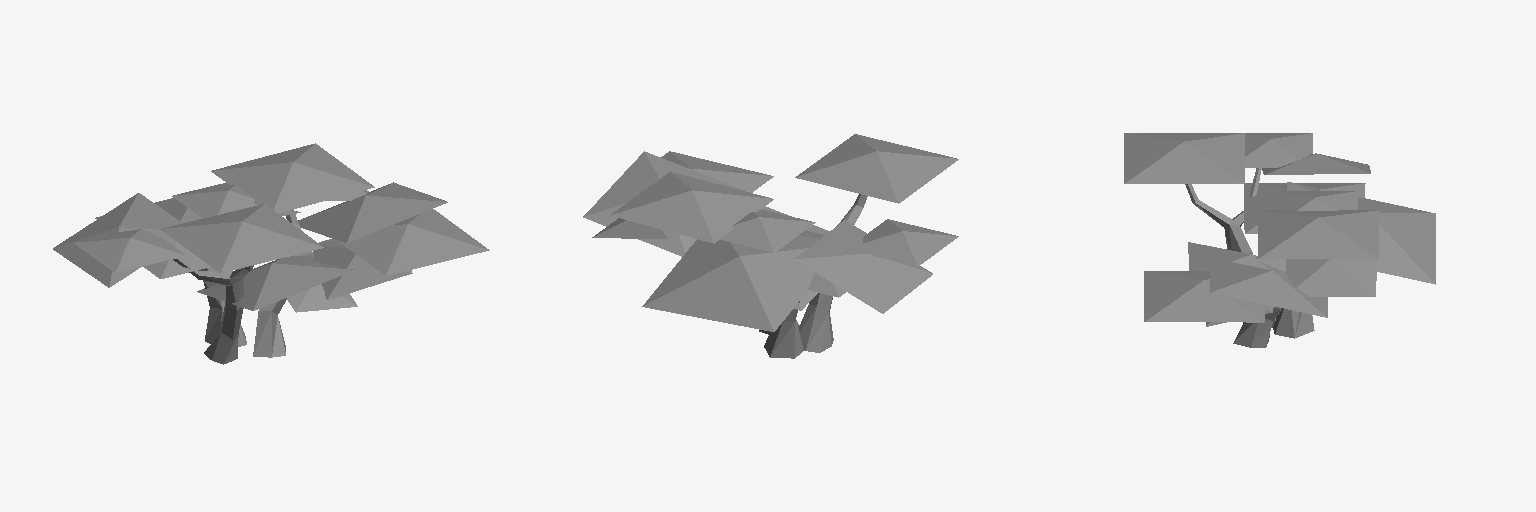
File: bush_08.obj
3 renders of one model, left to right at view 1: azimuth 30°, elevation 25°; view 2: azimuth 150°, elevation 25°; view 3: azimuth 270°, elevation 25°, orthographic.
Parts seen in each view (by area): view 1: bush_08; view 2: bush_08; view 3: bush_08.
Boxes of the visible parts, <box> form: bush_08: <box>53,143,489,364</box>; bush_08: <box>583,134,958,358</box>; bush_08: <box>1124,133,1435,347</box>.
Bounding box in the file's own units: 354 × 172 × 288.